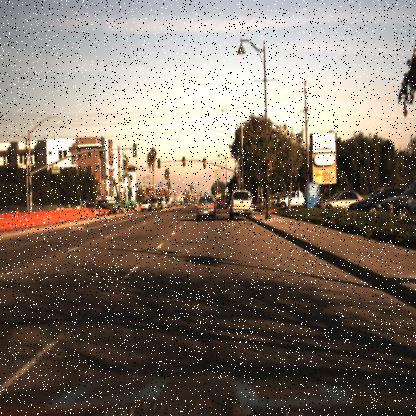car: (377, 174, 415, 219), (349, 182, 399, 215), (314, 188, 366, 214), (224, 186, 255, 226), (226, 187, 256, 222), (320, 184, 350, 216), (277, 186, 310, 212), (272, 188, 306, 209), (194, 194, 216, 220), (348, 192, 359, 218), (148, 195, 159, 214)
trafficLight-Yellow: (180, 154, 188, 167)
